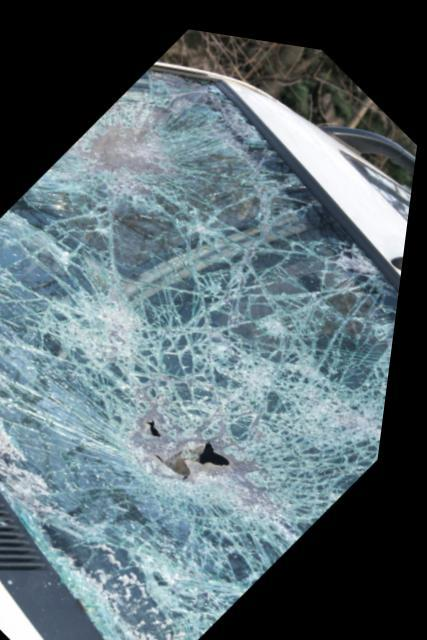glass shatter: (0, 66, 405, 640)
